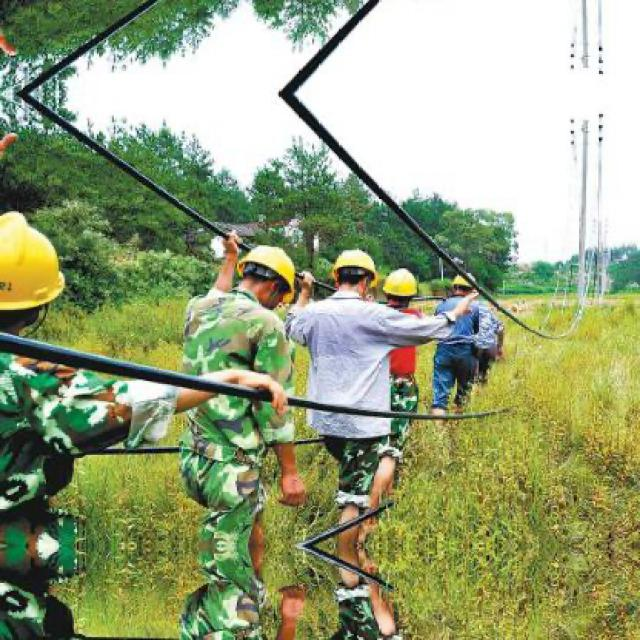helmet: (2, 207, 60, 341), (232, 239, 303, 310), (329, 247, 382, 299), (383, 267, 419, 310), (448, 264, 483, 300)
